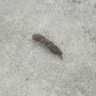Dog: (32, 32, 64, 60)
